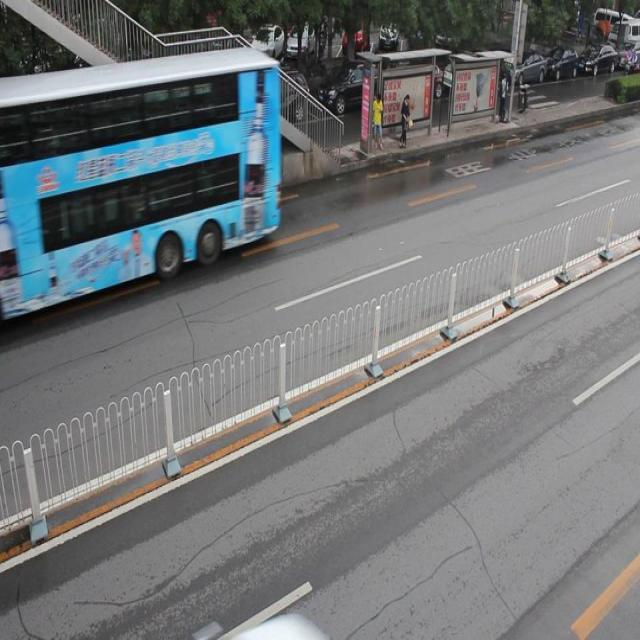car: (49, 105, 136, 172), (143, 92, 236, 146), (166, 104, 233, 177), (314, 62, 390, 121), (241, 72, 309, 131), (1, 126, 36, 181)
van: (1, 46, 280, 316)
